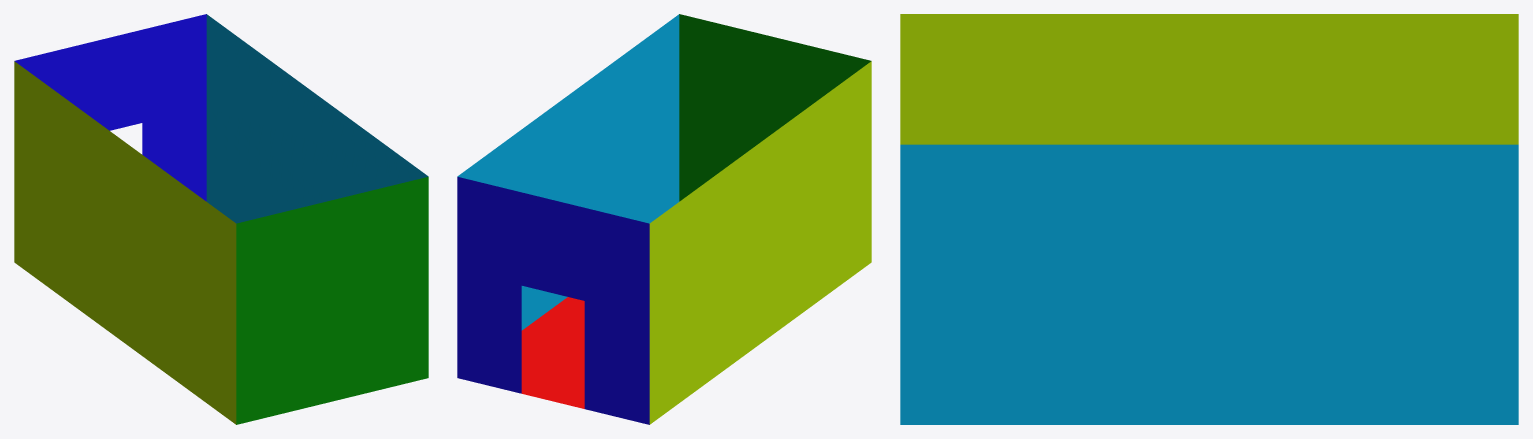
File: HabitacionLarga.FBX
3 renders of one model, left to right at view 1: azimuth 30°, elevation 25°; view 2: azimuth 150°, elevation 25°; view 3: azimuth 270°, elevation 25°, orthographic. The views are drawn at different scales.
Parts seen in each view (by area): view 1: Box003; view 2: Box003; view 3: Box003.
Boxes of the visible parts, box(x1,y1,x2,y2) form: Box003: box(14, 14, 428, 424); Box003: box(457, 14, 871, 424); Box003: box(900, 14, 1518, 424).
Size of the model in its own units: 100 by 100 by 200.
